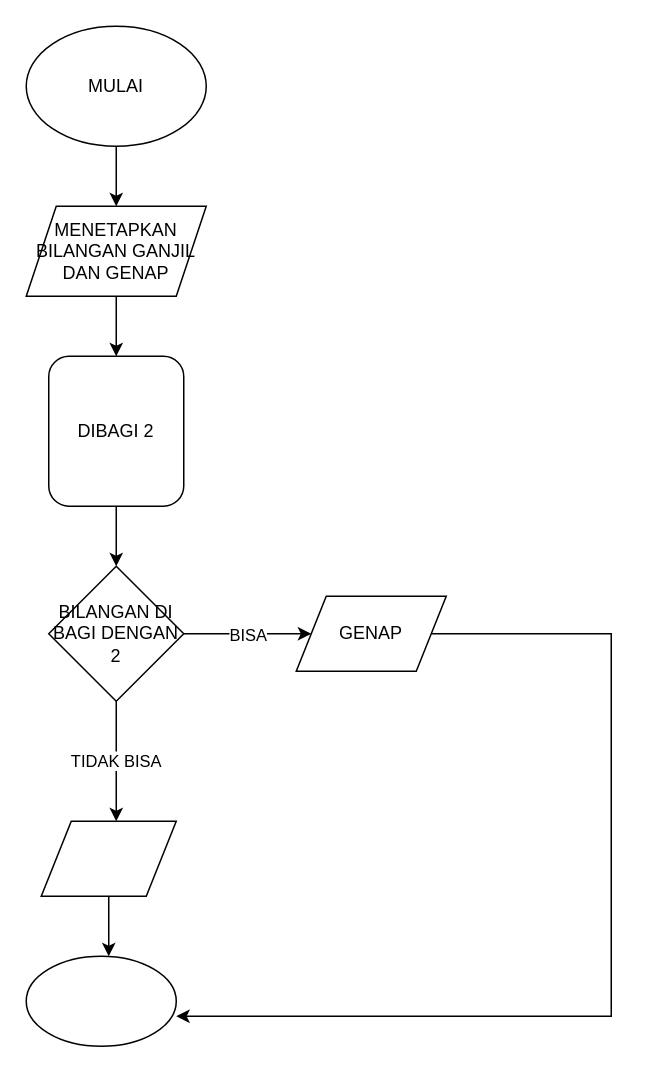
The diagram is 650 pixels wide and 1073 high, and some of its shapes have lost their labels. The shapes that lost their labels are listed below. From the top down, each one's box as (x1, y1, x2, y2) in pixels, then its label:
(40, 820, 176, 896): GANJIL
(25, 955, 176, 1046): FINISH
